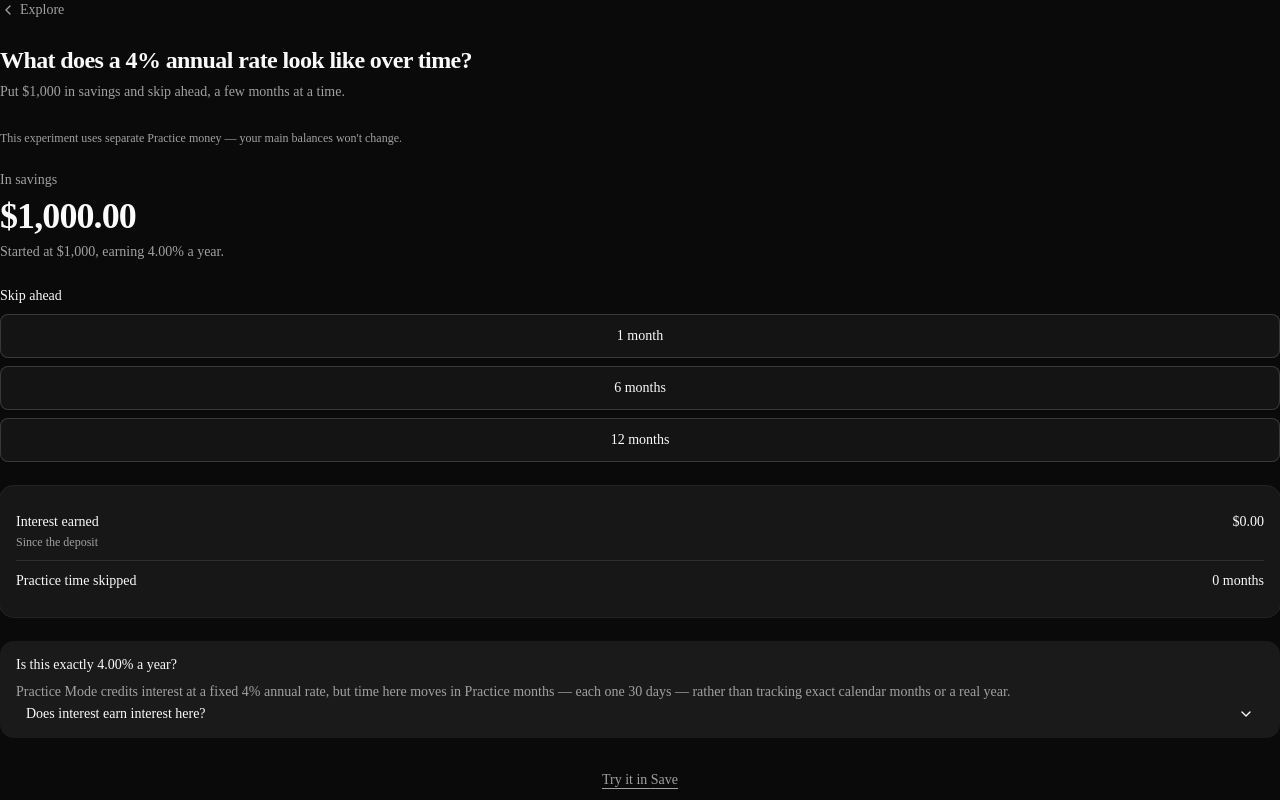
Test: YieldExperiment › one month earns the engine's own 4%/yr interest on $1,000
Click the button "1 month" at (640,336), box [0,314,1279,358]
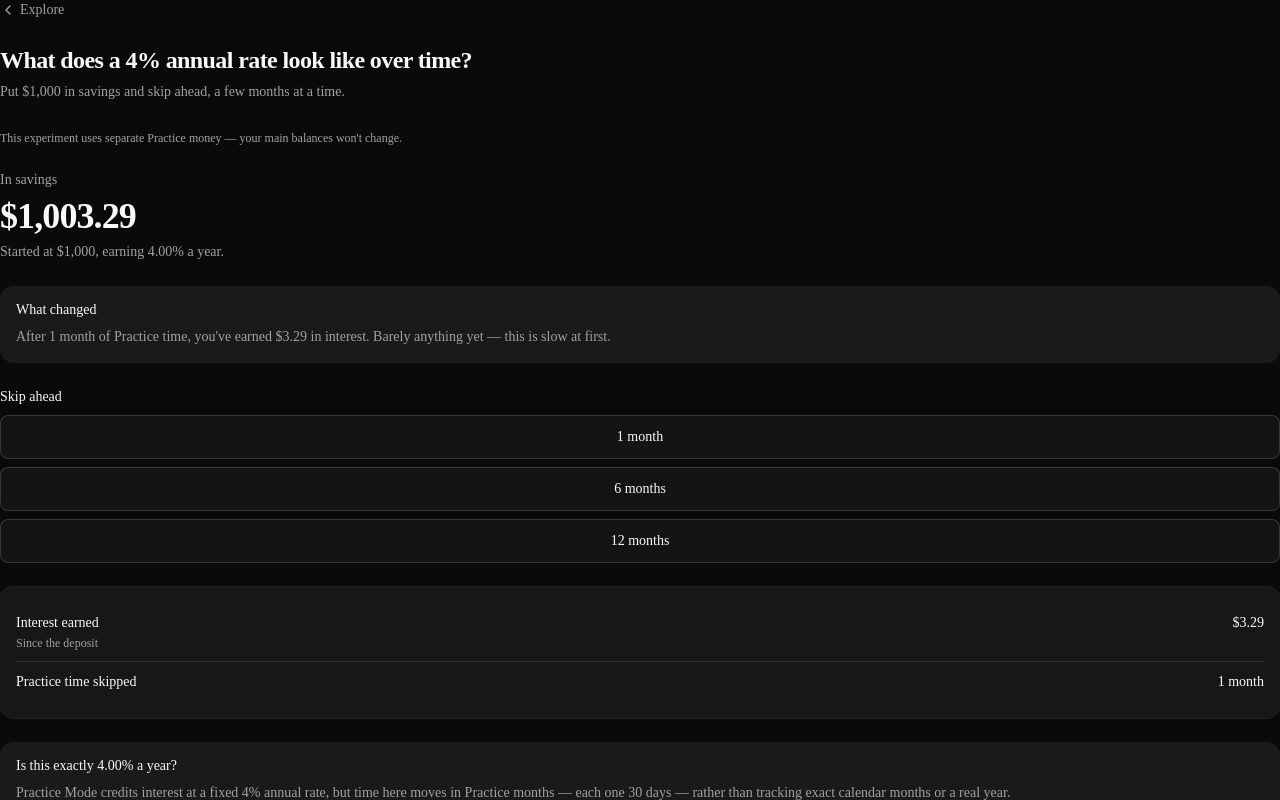
Result: the text "$1,003.29" is shown at [0,196,136,236]
Result: the text "What changed" is shown at [16,302,96,317]
